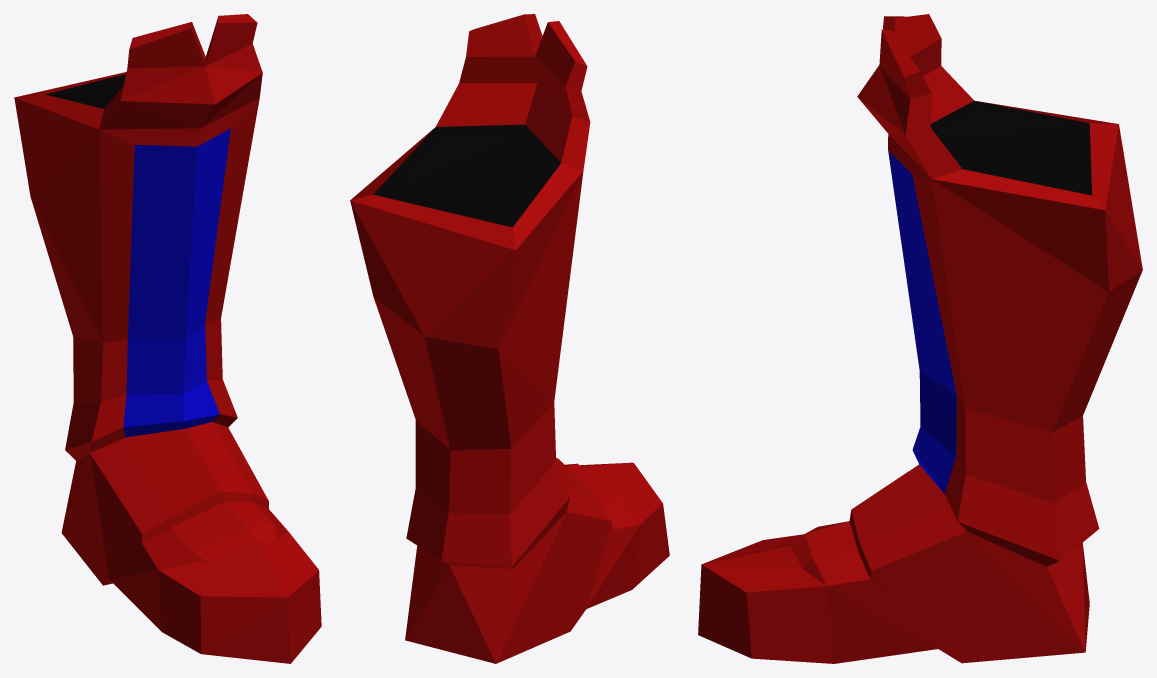
File: Chr_LegLeft_Male_Static_14.fbx
3 views of the same model, side by side, from view 1: azimuth 30°, elevation 25°; view 2: azimuth 150°, elevation 25°; view 3: azimuth 270°, elevation 25° (orthographic). The views are drawn at different scales.
Parts seen in each view (by area): view 1: Chr_LegLeft_Male_14; view 2: Chr_LegLeft_Male_14; view 3: Chr_LegLeft_Male_14.
Part boxes in pixels (x1=…): Chr_LegLeft_Male_14: x1=14, y1=14, x2=321, y2=663; Chr_LegLeft_Male_14: x1=350, y1=14, x2=669, y2=663; Chr_LegLeft_Male_14: x1=698, y1=14, x2=1142, y2=663.
Size of the model in its own units: 15.61 by 49.79 by 32.65.
